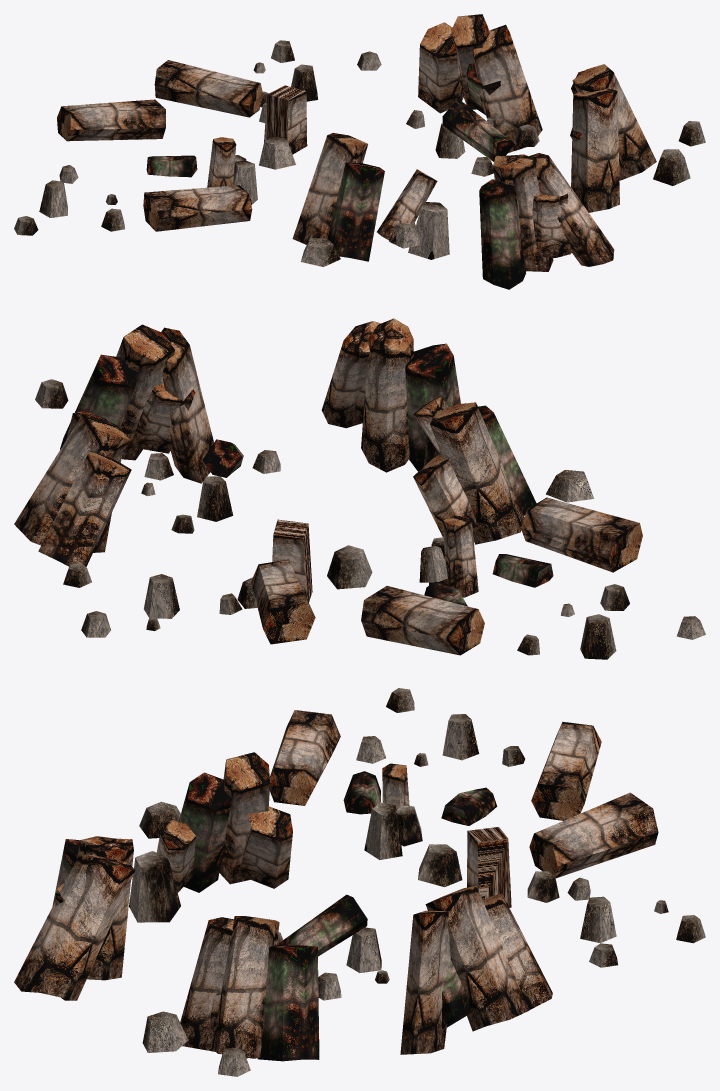
The model's file is thm_dant_large_rock_communal_dest_s01_l1.fbx.
The picture shows the model from 3 angles, top to bottom: view 1: azimuth 30°, elevation 25°; view 2: azimuth 150°, elevation 25°; view 3: azimuth 270°, elevation 25°; orthographic projection. The views are drawn at different scales.
Parts seen in each view (by area): view 1: mesh_node; view 2: mesh_node; view 3: mesh_node.
Part boxes in pixels (left/top/right/bottom): mesh_node: left=14, top=14, right=705, bottom=289; mesh_node: left=14, top=318, right=705, bottom=659; mesh_node: left=14, top=688, right=705, bottom=1076.
Size of the model in its own units: 54.89 by 10.81 by 43.17.
